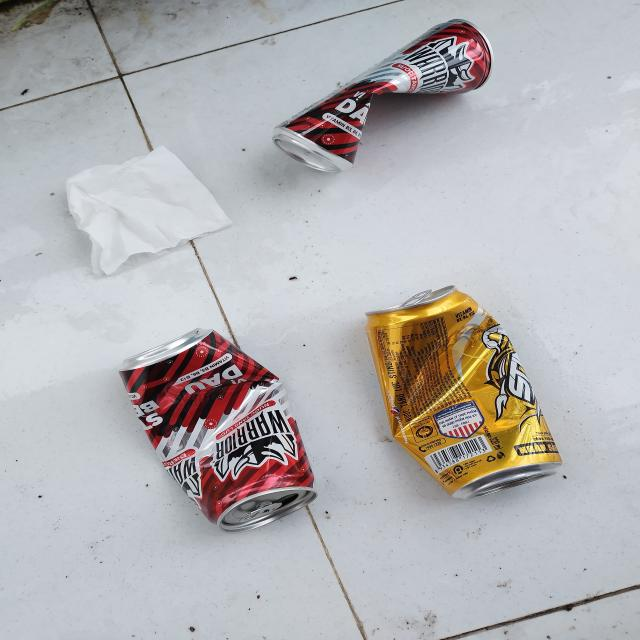can: (366, 282, 563, 501), (117, 325, 318, 537), (273, 19, 495, 174)
napkin: (61, 147, 231, 280)
